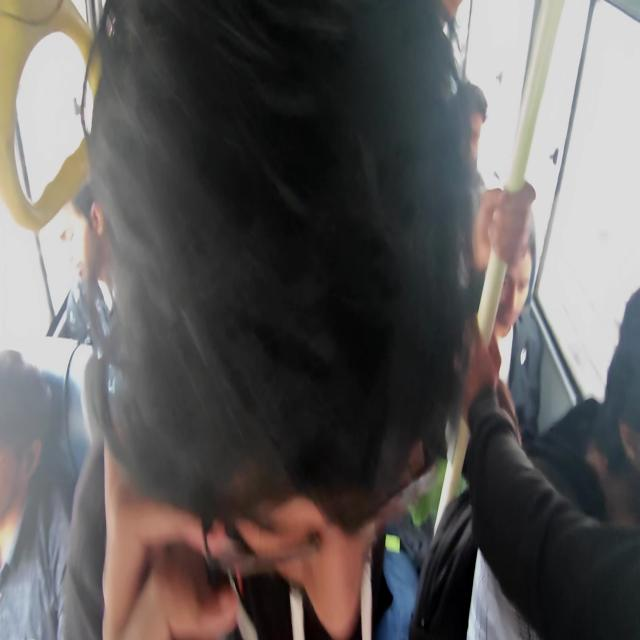person: (165, 114, 465, 640), (605, 298, 640, 494), (1, 432, 27, 536), (58, 208, 90, 270), (498, 268, 529, 293), (468, 117, 483, 149)
